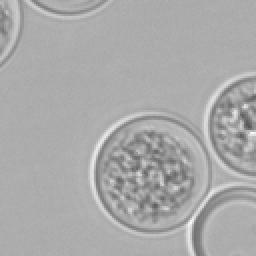picoshell: (88, 110, 210, 236), (204, 72, 254, 178), (186, 182, 254, 254), (24, 0, 112, 18)
